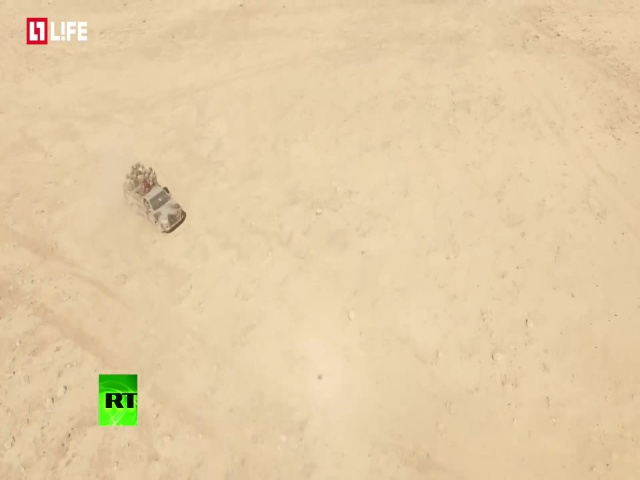vehicle: (119, 164, 187, 234)
